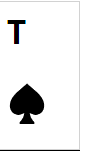card_t_schoppen: (1, 3, 78, 144)
